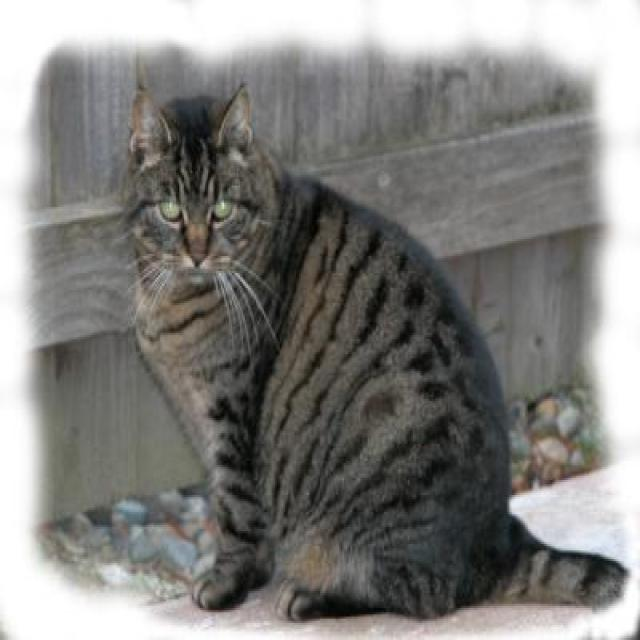Cats: (110, 51, 629, 625)
